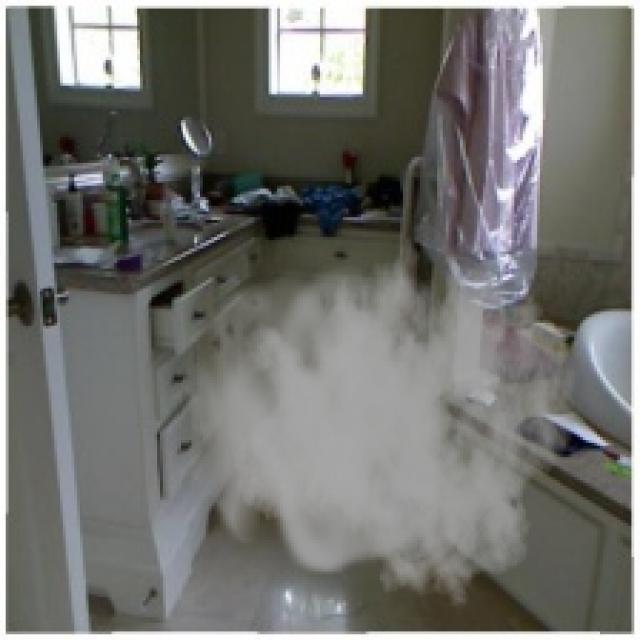Smoke: (185, 217, 578, 609)
